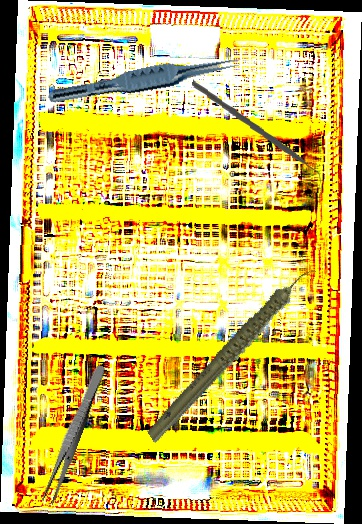Chopper: (185, 79, 328, 190)
Dressing Forceps: (39, 362, 108, 506)
Handpiece: (119, 264, 348, 445)
Tissue Forceps: (46, 46, 244, 115)
